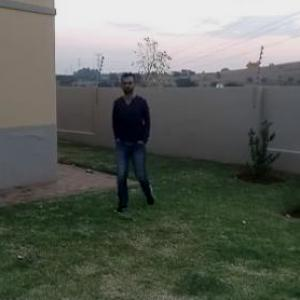follow: (108, 71, 152, 200)
